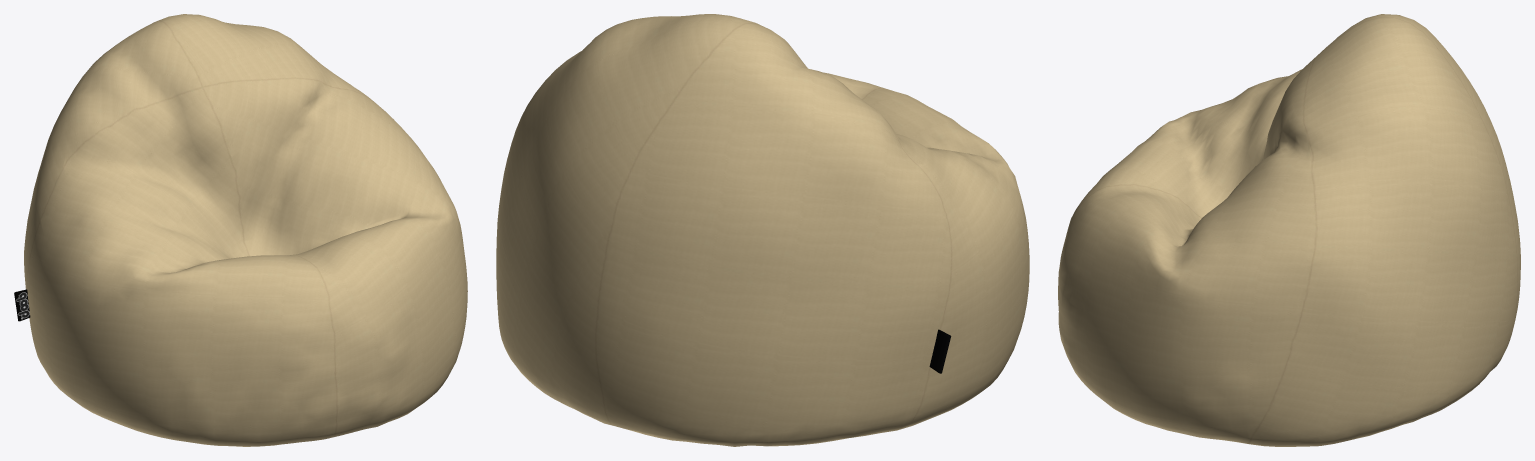
Rendered from doob-bean-bag-1-winter-wheat-large.glb.
The picture shows the model from 3 angles, left to right: view 1: azimuth 30°, elevation 25°; view 2: azimuth 150°, elevation 25°; view 3: azimuth 270°, elevation 25°; orthographic projection. The views are drawn at different scales.
Parts seen in each view (by area): view 1: bean bag-low.002; view 2: bean bag-low.002; view 3: bean bag-low.002.
Part boxes in pixels (box(x1,y1,x2,y2)): bean bag-low.002: box(14, 14, 467, 446); bean bag-low.002: box(496, 14, 1029, 446); bean bag-low.002: box(1058, 14, 1520, 446).
Size of the model in its own units: 1 by 0.8 by 1.
Materials: 2 (2 with a texture image).
